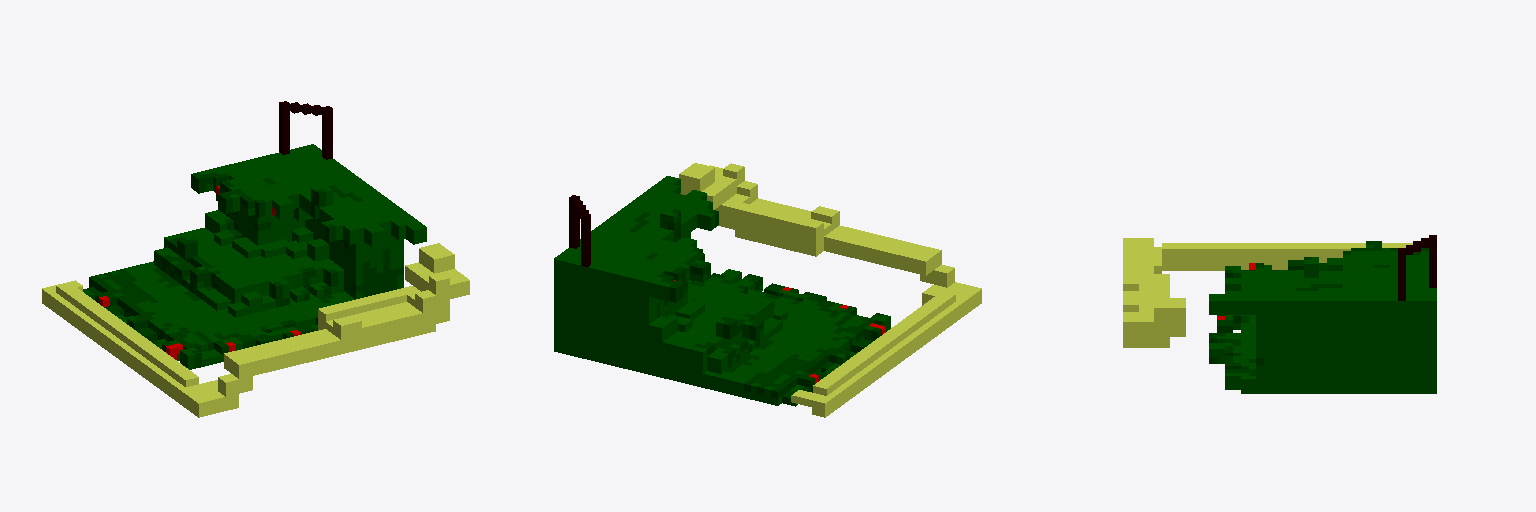
3 renders of one model, left to right at view 1: azimuth 30°, elevation 25°; view 2: azimuth 150°, elevation 25°; view 3: azimuth 270°, elevation 25°, orthographic.
Visible parts, largest first — view 1: terreno1; view 2: terreno1; view 3: terreno1.
Part boxes in pixels (bbox=[...]): terreno1: bbox=[42, 101, 469, 417]; terreno1: bbox=[554, 163, 981, 417]; terreno1: bbox=[1123, 235, 1436, 393].
Size of the model in its own units: 40 by 20 by 40.
1 materials, 1 textured.